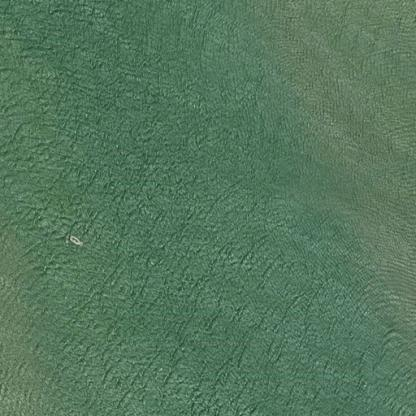ship: (68, 233, 80, 246)
